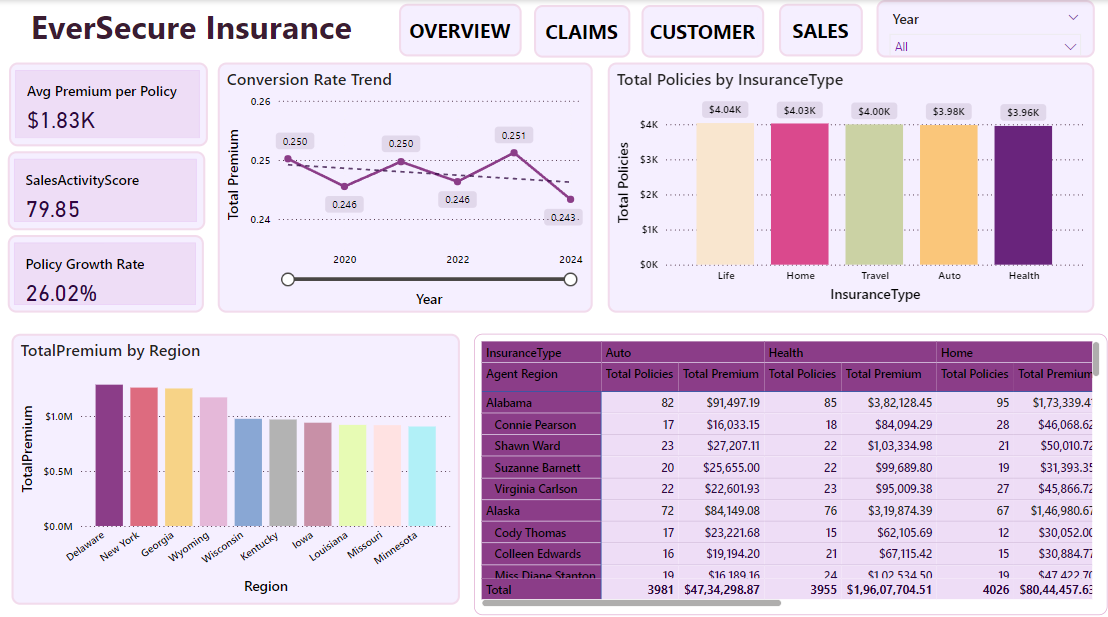

This screenshot's page, from the dashboard's own definition file:
{"tool":"powerbi","page":{"name":"Sales","canvas":[1280,720],"ordinal":3},"visuals":[{"type":"lineChart","title":"Conversion Rate Trend","fields":{"Category":["DateDim.Year"],"Y":["Avg(sales.ConversionRate)"]},"box":[252.5,72.1,432.8,288.6],"z":0},{"type":"clusteredColumnChart","fields":{"Category":["policies.InsuranceType"],"Y":["policies.Total Policies"]},"box":[702.6,72.1,561.2,288.6],"z":1000},{"type":"cardVisual","fields":{"Data":["sales.Avg Premium per Policy"]},"box":[11.5,72.1,229.4,96.7],"z":2000},{"type":"cardVisual","fields":{"Data":["Avg(sales.SalesActivityScore)"]},"box":[10.1,174.6,228,90.9],"z":3000},{"type":"slicer","fields":{"Values":["DateDim.Year"]},"box":[1013.3,0,251.7,66.7],"z":4000},{"type":"cardVisual","fields":{"Data":["policies.Policy Growth Rate"]},"box":[10.1,271.2,226.5,89.5],"z":5000},{"type":"shape","box":[461.7,4.3,141.4,60.6],"z":6000},{"type":"shape","box":[617.5,5.8,111.1,60.6],"z":7000},{"type":"shape","box":[741.6,5.8,141.4,60.6],"z":8000},{"type":"shape","box":[900.3,4.3,96.7,60.6],"z":9000},{"type":"textbox","box":[31.7,0,412.6,64.9],"z":10000},{"type":"pivotTable","fields":{"Rows":["agents.Region","agents.Name"],"Values":["policies.Total Policies","policies.Total Premium"],"Columns":["policies.InsuranceType"]},"box":[548.2,385.2,731.5,324.6],"z":11000},{"type":"clusteredColumnChart","fields":{"Y":["Sum(sales.TotalPremiumAmount)"],"Category":["agents.Region"]},"box":[14.4,385.2,518,313.1],"z":12000}]}

Visuals, with their boxes in screenshot pixels (x1, y1, x2, y2), scaled from the page's 1280x720 canvas onto the 1108x617 screenshot:
"Conversion Rate Trend" lineChart: bbox=(219, 62, 593, 309)
clusteredColumnChart - policies.InsuranceType x policies.Total Policies: bbox=(608, 62, 1094, 309)
cardVisual - sales.Avg Premium per Policy: bbox=(10, 62, 209, 145)
cardVisual - Avg(sales.SalesActivityScore): bbox=(9, 150, 206, 228)
slicer - DateDim.Year: bbox=(877, 0, 1095, 57)
cardVisual - policies.Policy Growth Rate: bbox=(9, 232, 205, 309)
shape: bbox=(400, 4, 522, 56)
shape: bbox=(535, 5, 631, 57)
shape: bbox=(642, 5, 764, 57)
shape: bbox=(779, 4, 863, 56)
textbox: bbox=(27, 0, 385, 56)
pivotTable - agents.Region x agents.Name: bbox=(475, 330, 1107, 608)
clusteredColumnChart - Sum(sales.TotalPremiumAmount) x agents.Region: bbox=(12, 330, 461, 598)
